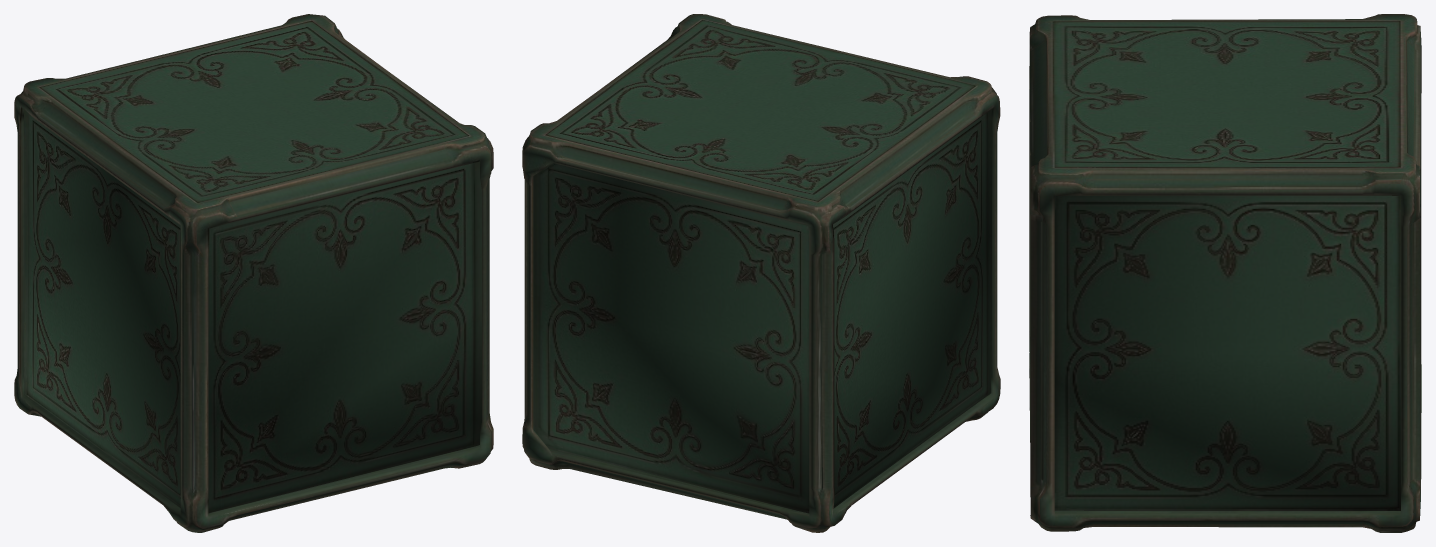
Rendered from tripo_convert_d41a3107-c45e-4a45-bfad-05cfdccf80be.fbx.
3 renders of one model, left to right at view 1: azimuth 30°, elevation 25°; view 2: azimuth 150°, elevation 25°; view 3: azimuth 270°, elevation 25°, orthographic. The views are drawn at different scales.
Visible parts, largest first — view 1: tripo_node_d41a3107; view 2: tripo_node_d41a3107; view 3: tripo_node_d41a3107.
Boxes of the visible parts, x1,y1,x2,y2 form: tripo_node_d41a3107: [14, 14, 493, 532]; tripo_node_d41a3107: [522, 14, 1000, 532]; tripo_node_d41a3107: [1029, 14, 1421, 532].
Size of the model in its own units: 0.9868 by 0.9995 by 0.9888.
1 material, 1 textured.
